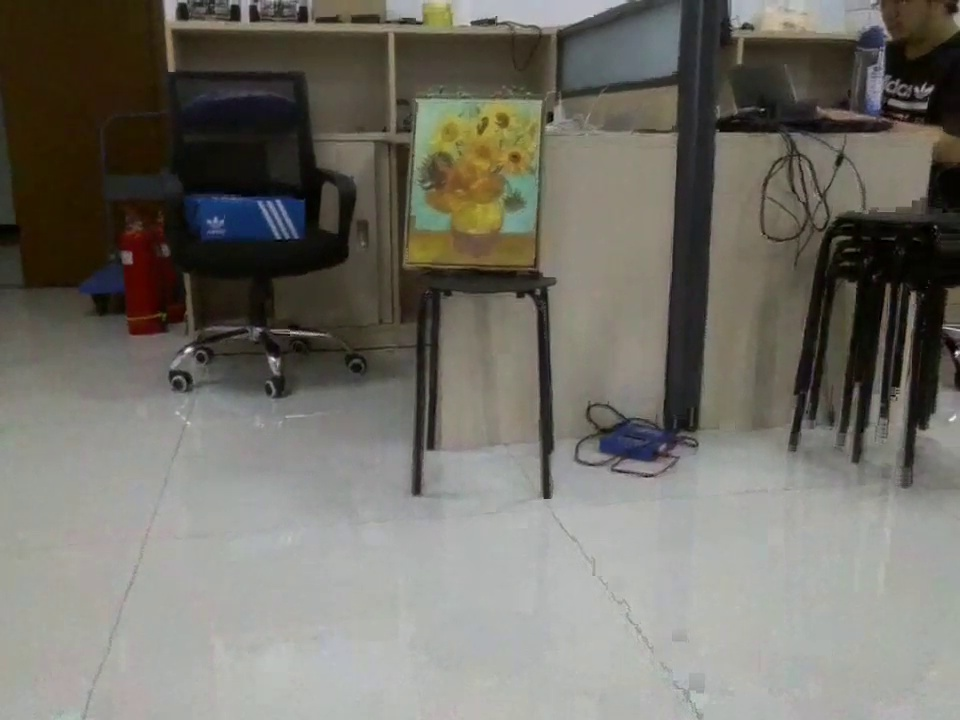painting: (403, 97, 547, 275)
